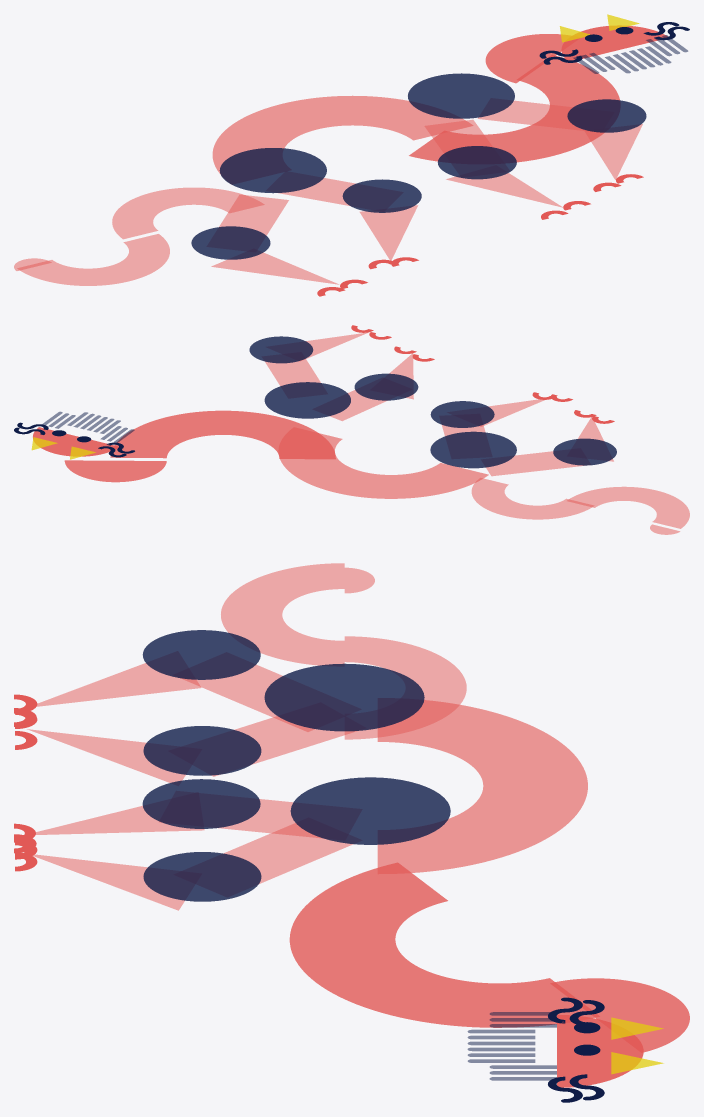
Rendered from rig-chats.glb.
The picture shows the model from 3 angles, top to bottom: view 1: azimuth 30°, elevation 25°; view 2: azimuth 150°, elevation 25°; view 3: azimuth 270°, elevation 25°; orthographic projection. The views are drawn at different scales.
Visible parts, largest first — view 1: Curve006, Curve010, Curve014, Curve018, Curve023, Curve009, Curve011, Curve003, Curve068, Curve015, Curve020, Curve024 (+10 smaller); view 2: Curve010, Curve006, Curve018, Curve014, Curve023, Curve009, Curve011, Curve003, Curve020, Curve068, Curve015, Curve024 (+8 smaller); view 3: Curve006, Curve010, Curve018, Curve014, Curve023, Curve009, Curve011, Curve068, Curve003, Curve020, Curve015, Curve024 (+10 smaller).
Part boxes in pixels (x1,y1,x2,y2): Curve006: (409,54,619,162); Curve010: (212,95,472,174); Curve014: (408,73,514,118); Curve018: (219,148,326,193); Curve023: (17,234,169,285); Curve009: (112,187,263,239); Curve011: (485,34,570,83); Curve003: (567,99,646,132); Curve068: (191,226,270,259); Curve015: (342,179,421,212); Curve020: (437,146,516,179); Curve024: (561,25,667,60); Curve010: (278,427,488,498); Curve006: (110,410,335,458); Curve018: (430,431,516,468); Curve014: (264,382,350,418); Curve023: (567,486,689,528); Curve009: (471,478,594,519); Curve011: (64,460,166,482); Curve003: (249,336,313,363); Curve020: (354,373,418,400); Curve068: (553,438,616,465); Curve015: (430,401,494,427); Curve024: (33,427,118,456); Curve006: (289,863,599,1027); Curve010: (377,700,587,874); Curve018: (264,663,424,731); Curve014: (290,777,450,844); Curve023: (221,563,344,665); Curve009: (344,636,466,739); Curve011: (551,978,689,1052); Curve068: (142,630,260,679); Curve003: (143,852,261,901); Curve020: (142,779,260,828); Curve015: (143,726,261,775); Curve024: (557,1014,643,1087).
Bounding box in the file's own units: 190 × 14.41 × 99.74.
